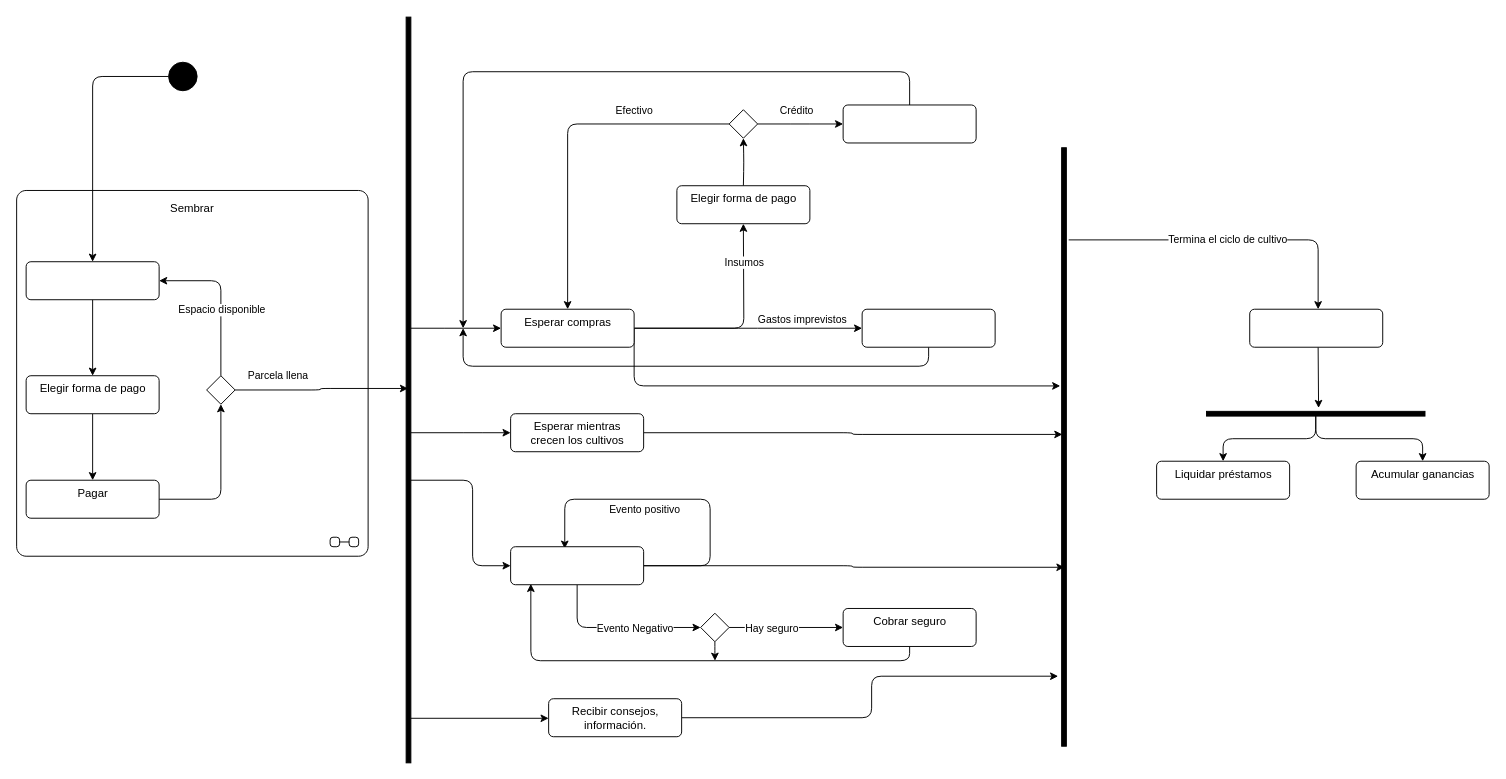
Image size: 1506x779. Some labels were removed from this diagram. The centre of each missing label's shape, as x and y in pixels:
Cosechar: (x=1316, y=327)
Elegir credito Verqor o Coyote: (x=909, y=123)
Esperar eventos: (x=577, y=565)
Pagar en efectivo: (x=928, y=327)
Seleccionar cultivo: (x=92, y=280)
